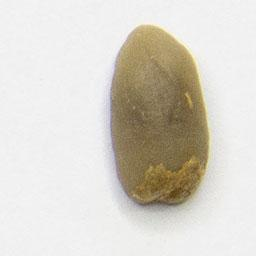longberry: (105, 21, 213, 209)
